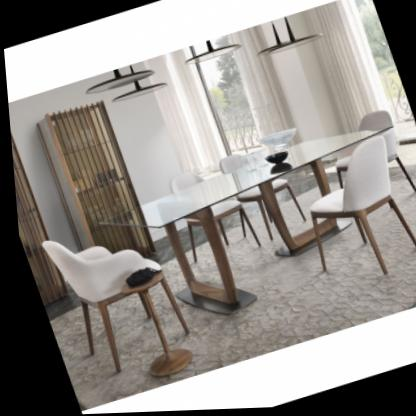Curtains: (314, 0, 396, 138)
Dining Table: (22, 107, 416, 378)
